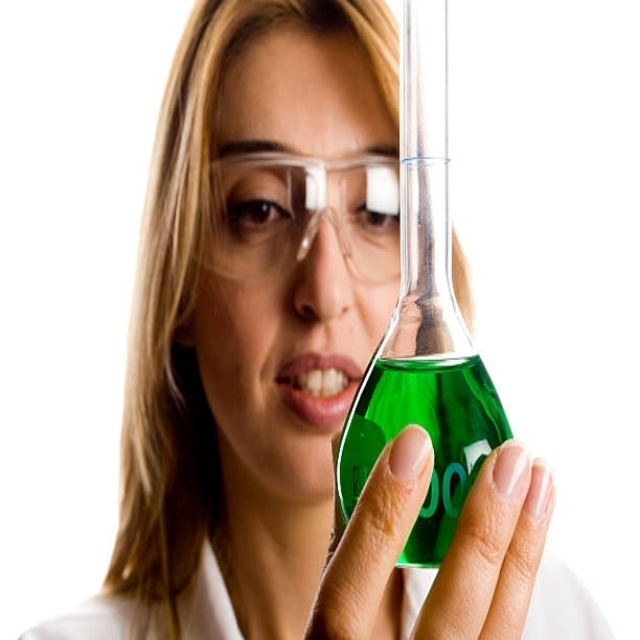Gafas: (202, 154, 409, 282)
Sin_guantes: (302, 426, 553, 640)
Sin_mascara: (274, 352, 365, 426)
